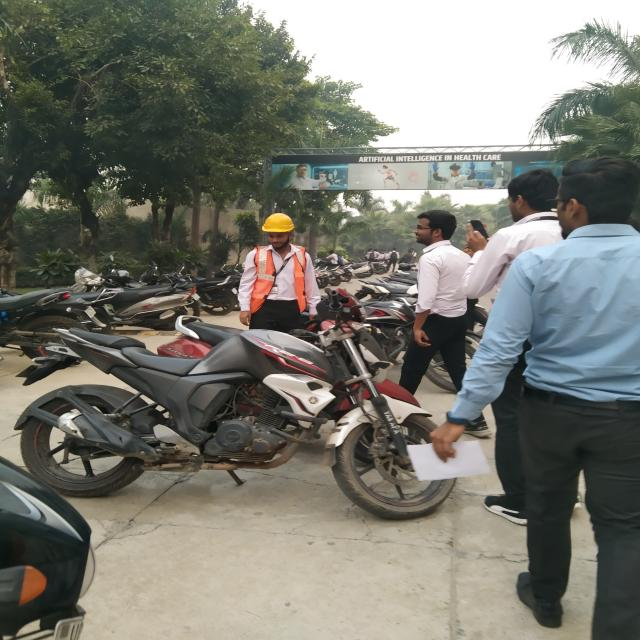safe: (235, 206, 321, 338)
unsafe: (475, 154, 640, 633), (398, 208, 484, 410)
